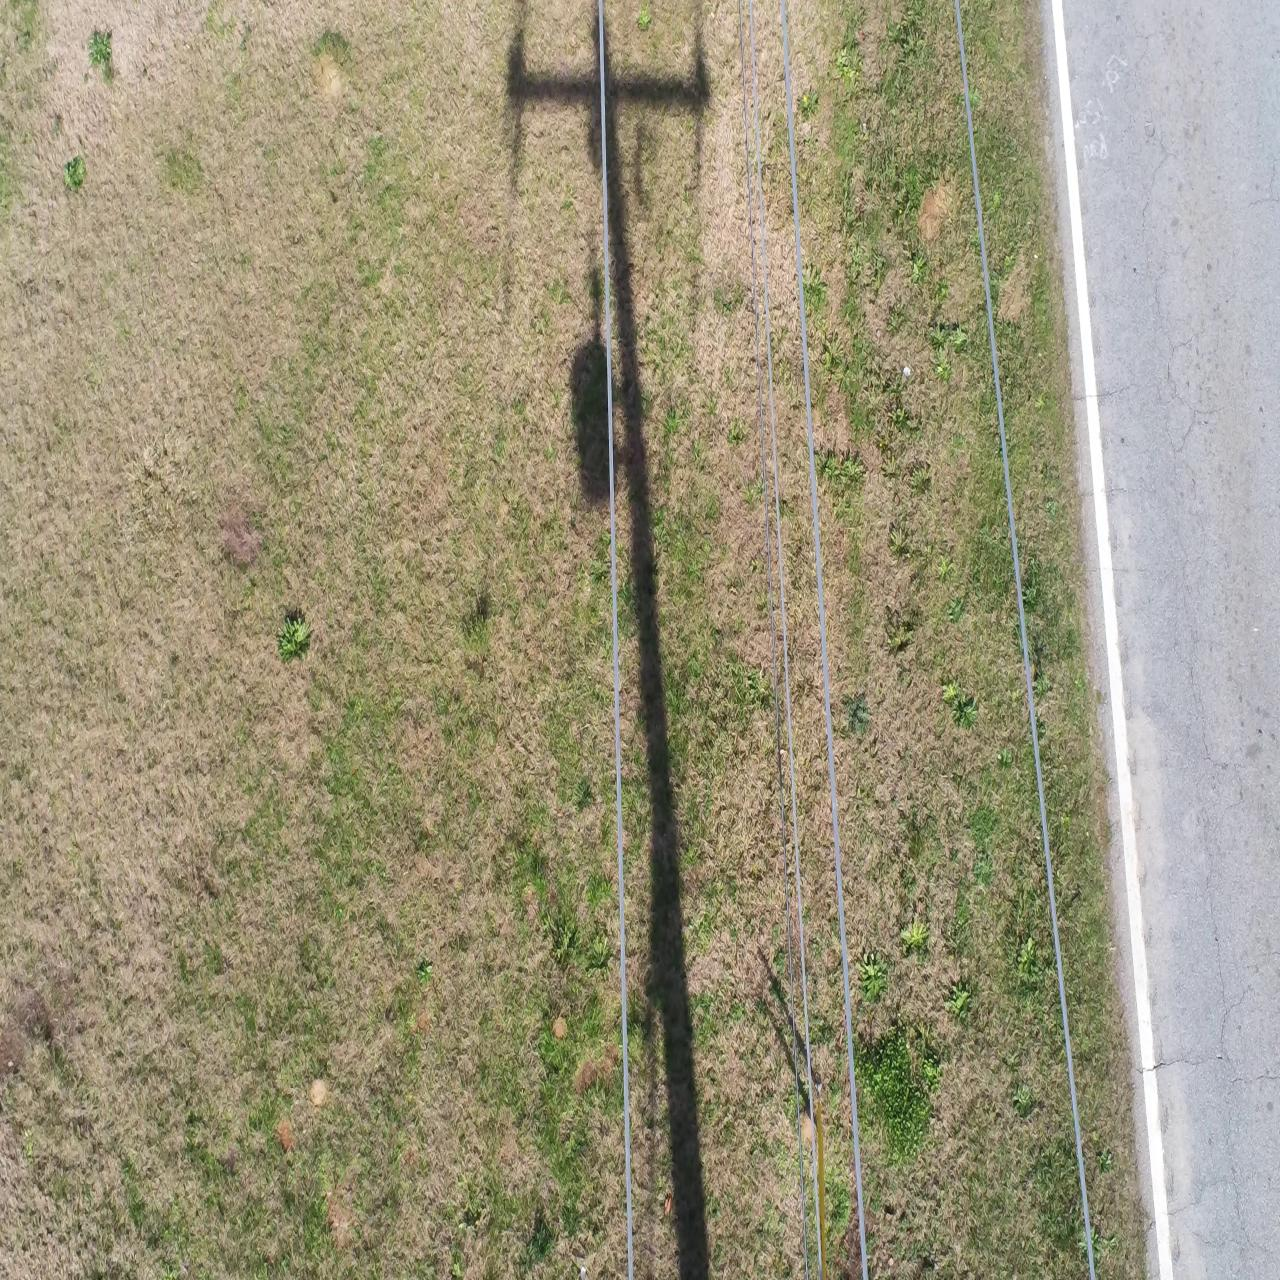cable: (955, 0, 1095, 1279), (781, 0, 869, 1279), (749, 0, 823, 1279), (740, 0, 808, 1279), (599, 0, 633, 1279)
